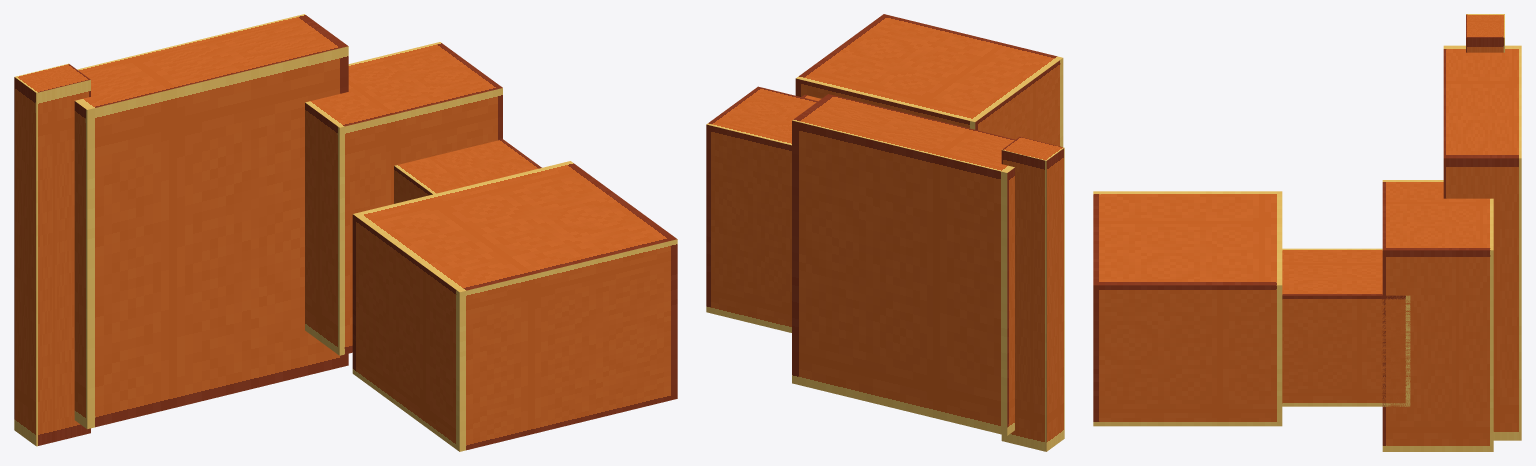
Rendered from bench_hoe_1_hot.obj.
The picture shows the model from 3 angles, left to right: view 1: azimuth 30°, elevation 25°; view 2: azimuth 150°, elevation 25°; view 3: azimuth 270°, elevation 25°; orthographic projection. The views are drawn at different scales.
Parts seen in each view (by area): view 1: geometry; view 2: geometry; view 3: geometry.
Boxes of the visible parts, x1=… form: geometry: x1=14, y1=14, x2=677, y2=451; geometry: x1=706, y1=14, x2=1064, y2=451; geometry: x1=1093, y1=14, x2=1521, y2=451.
Size of the model in its own units: 0.3185 by 0.25 by 0.3105.
